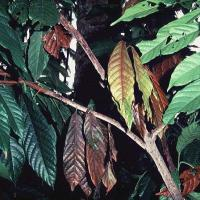mal de hilachas: (101, 29, 172, 132), (61, 106, 120, 195)
